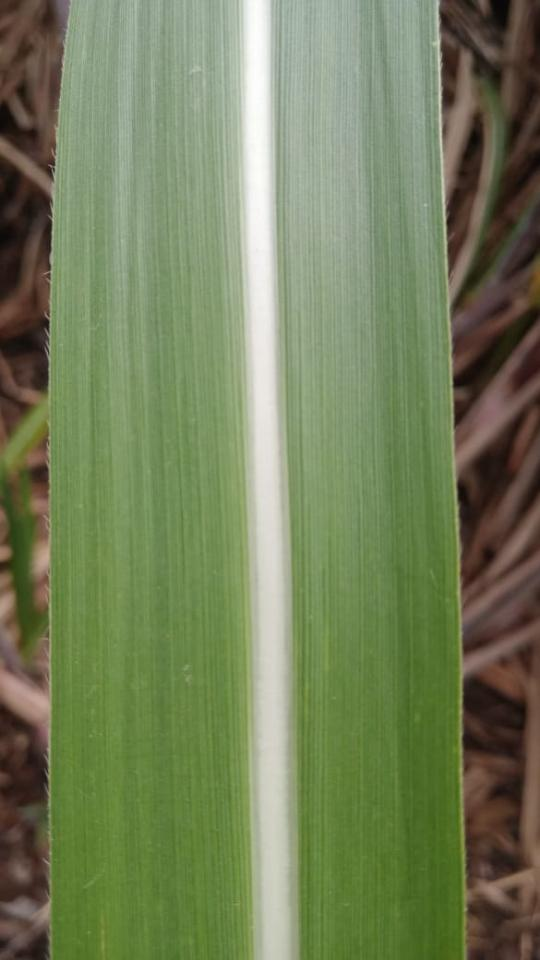Healthy: (49, 0, 464, 959)
